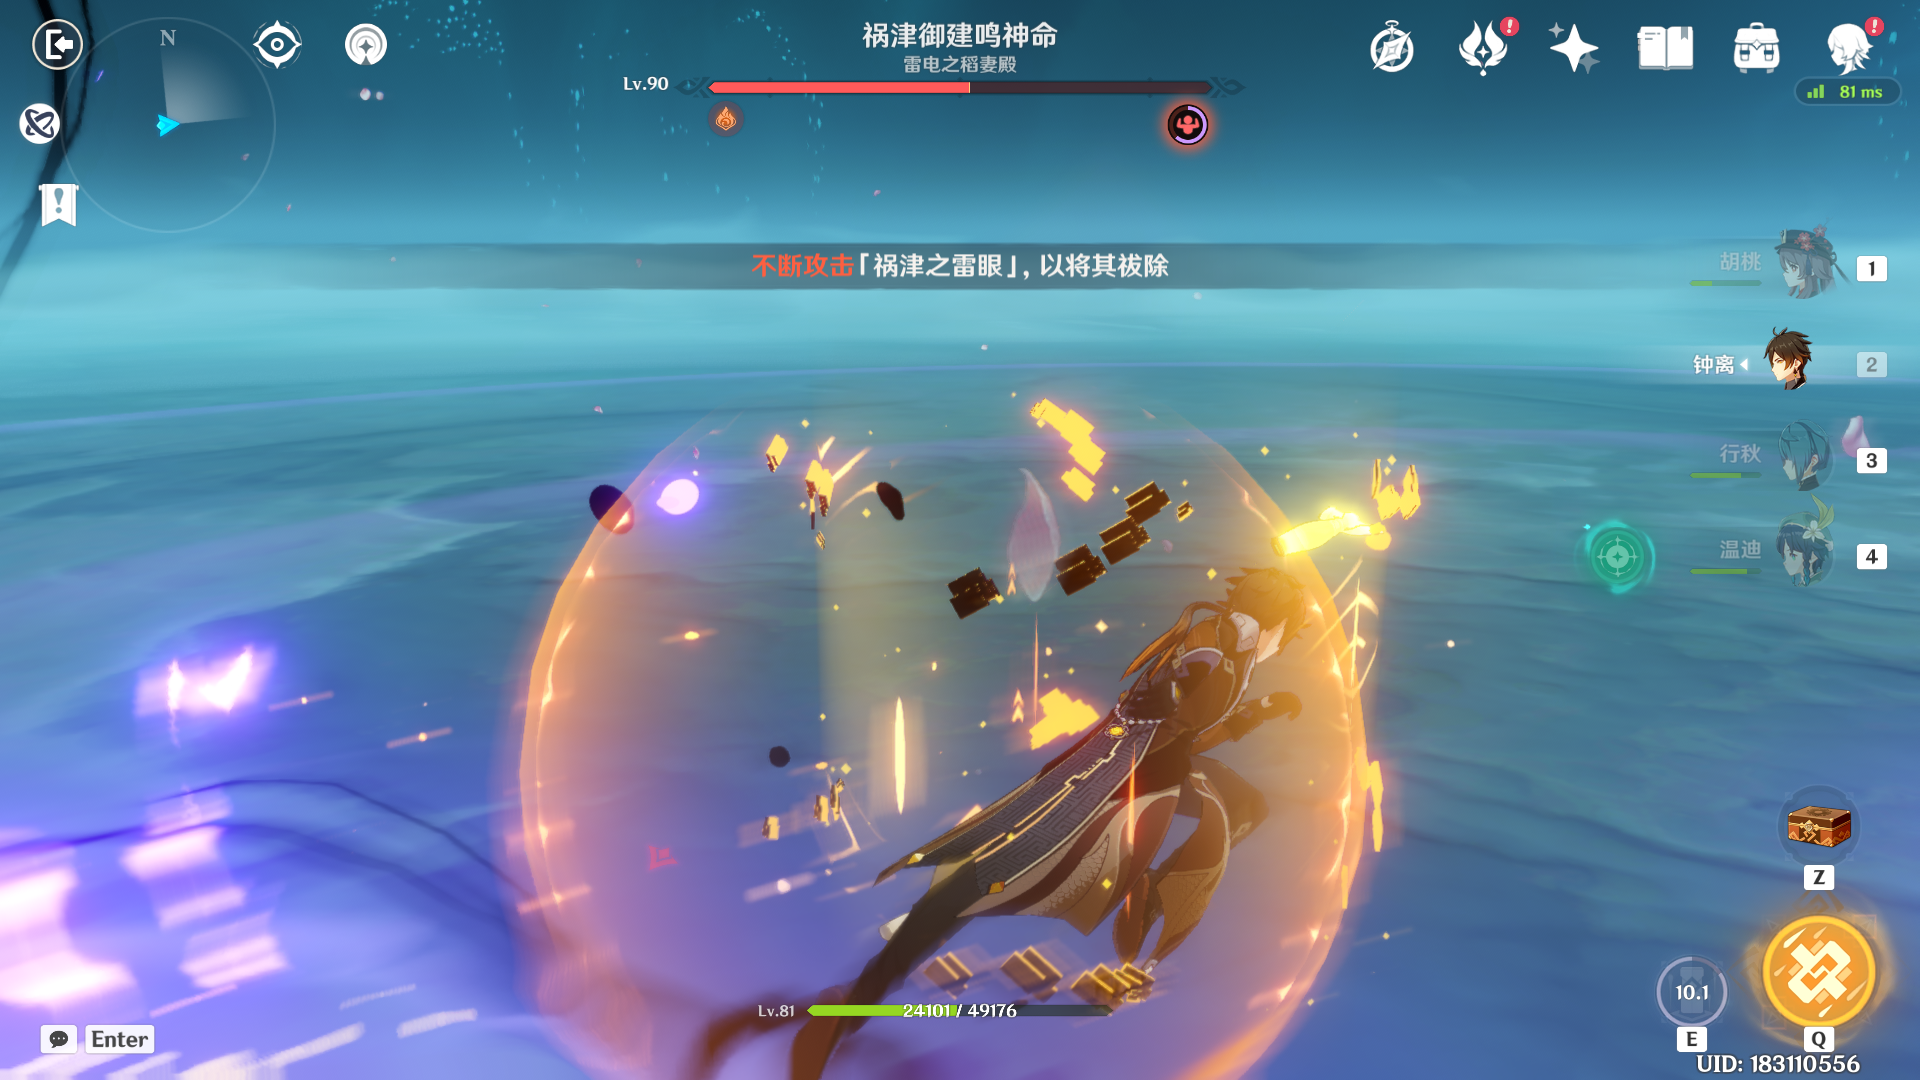character: (702, 491, 1371, 1080)
